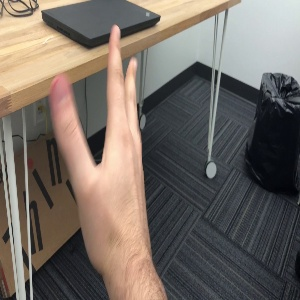hand: (48, 22, 153, 262)
